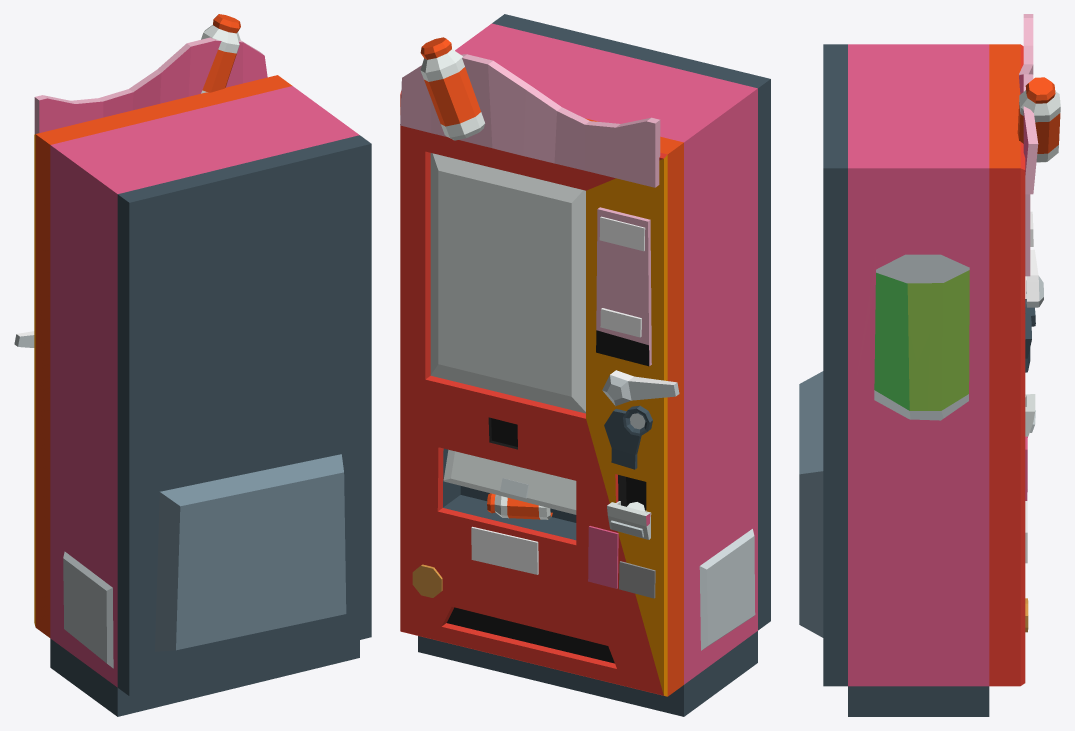
Rendered from Vending_Machine.glb.
The picture shows the model from 3 angles, left to right: view 1: azimuth 30°, elevation 25°; view 2: azimuth 150°, elevation 25°; view 3: azimuth 270°, elevation 25°; orthographic projection. The views are drawn at different scales.
Parts seen in each view (by area): view 1: group1848869498; view 2: group1848869498; view 3: group1848869498.
Part boxes in pixels (bbox=[...]): group1848869498: bbox=[14, 14, 371, 716]; group1848869498: bbox=[400, 14, 770, 716]; group1848869498: bbox=[799, 14, 1060, 716].
Bounding box in the file's own units: 1.29 × 2.81 × 1.08.
